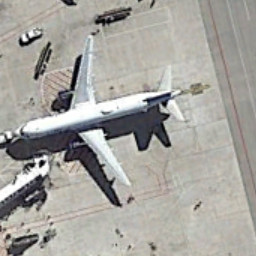Airplane: (5, 26, 190, 211)
